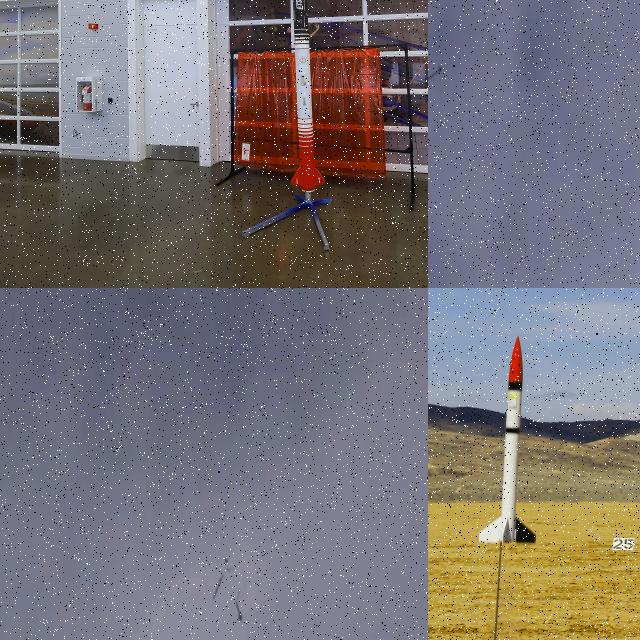Rocket: (478, 334, 538, 545), (291, 0, 325, 191), (428, 64, 442, 81), (235, 599, 243, 622)
